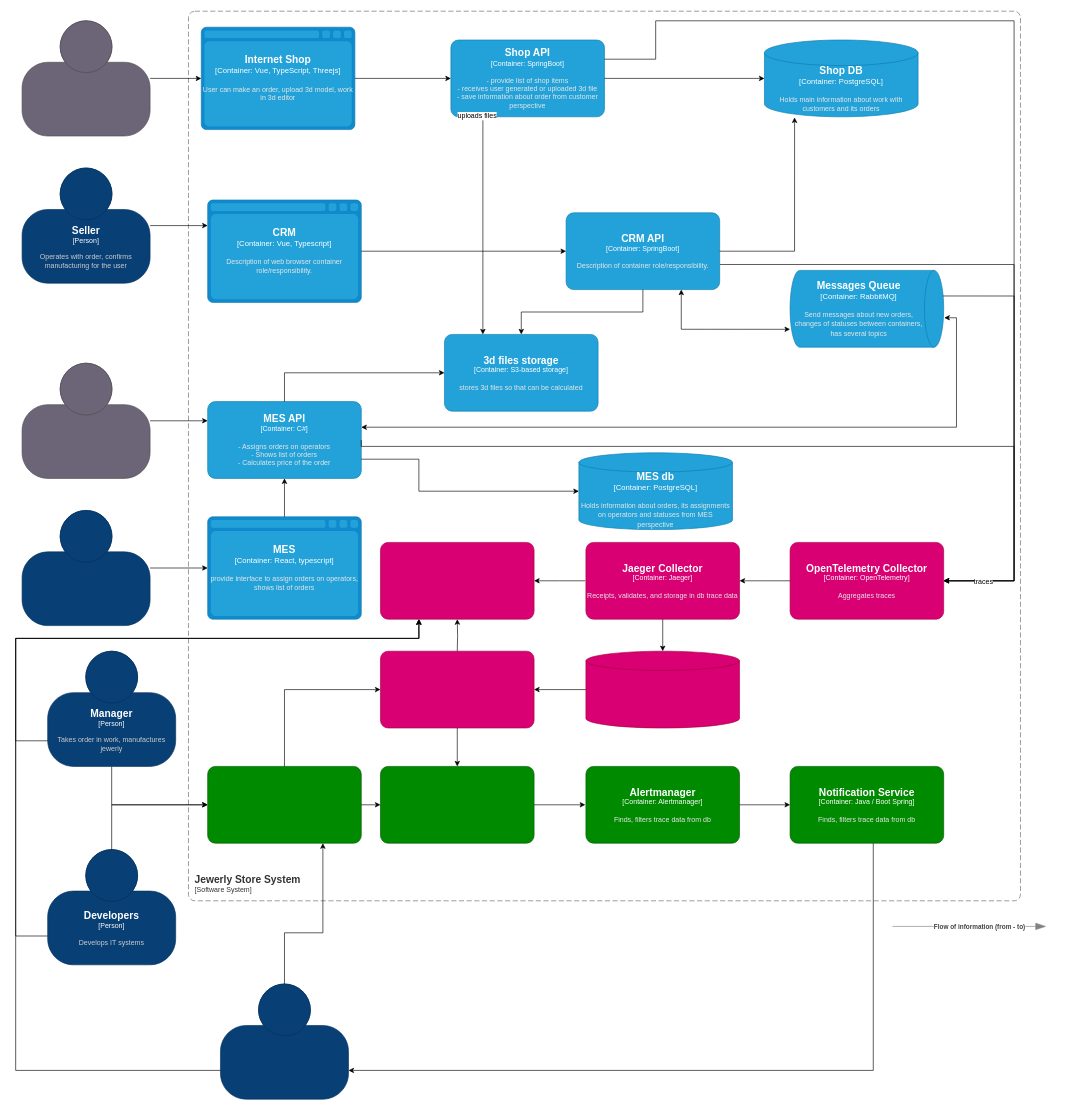
Image size: 1068x1110. Some labels were removed from this diagram. The box of each missing label's shape, as (x1, y1, x2, y2) in pixels:
API user [Person] Description of external person.: (21, 363, 150, 478)
Customer [Person] Description of external person.: (21, 20, 150, 136)
Grafana [Container: Grafana] Makes visualization SLA and custom dashboards: (207, 766, 361, 843)
Jaeger db [Container: Elasticsearch] Holds trace data: (585, 651, 740, 728)
Jaeger UI [Container: Jaeger] Makes visualization and analysis of trace data: (380, 542, 534, 619)
Operator [Person] Takes order in work, manufactures jewerly: (21, 510, 150, 626)
Prometheus [Container: Prometheus] Finds, filters trace data from db: (380, 766, 534, 843)
Query Service [Container: Jaeger] Finds, filters trace data from db: (380, 651, 534, 728)
Support [Person] Supports IT systems: (220, 983, 348, 1099)
